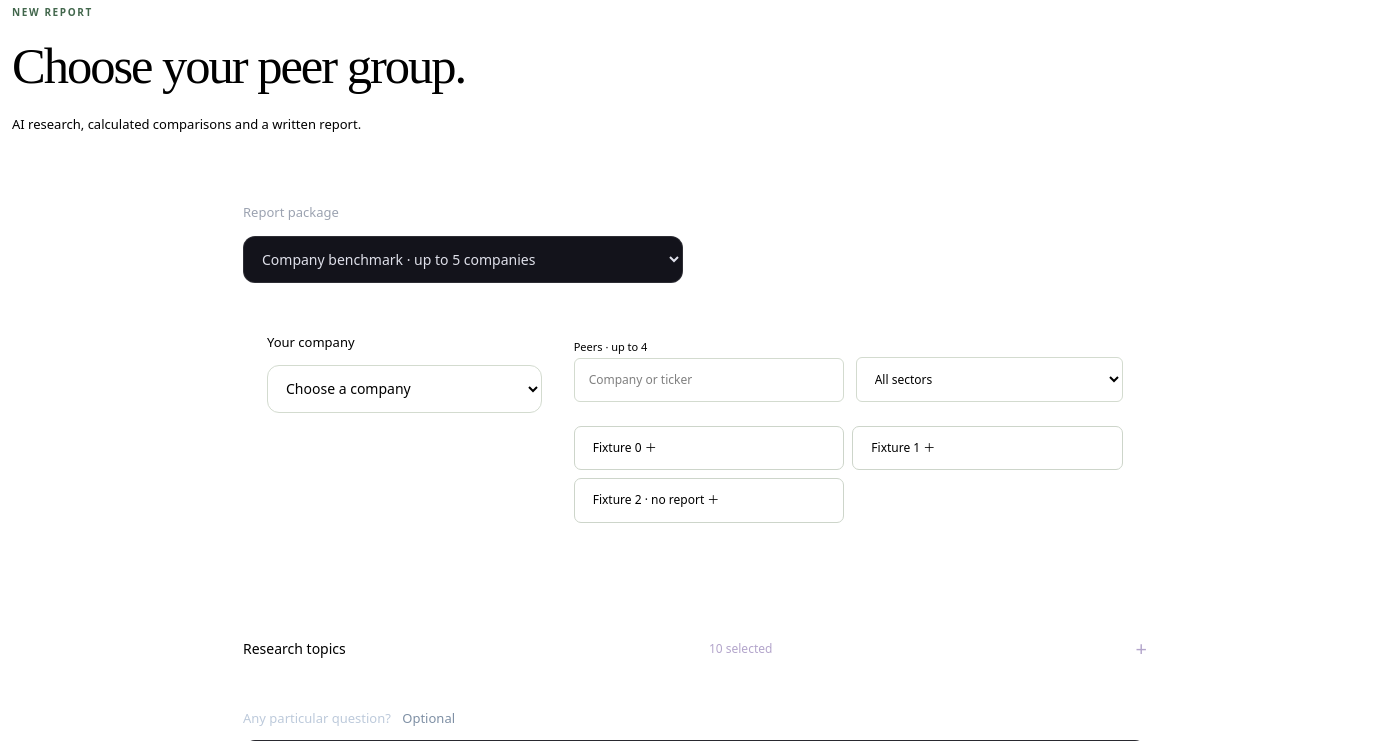
Test: requires explicit generation, persists selection and opens source evidence
Select "Fixture 0" in the dropdown named "Primary company" at (404, 389), box 267,365 -> 542,413
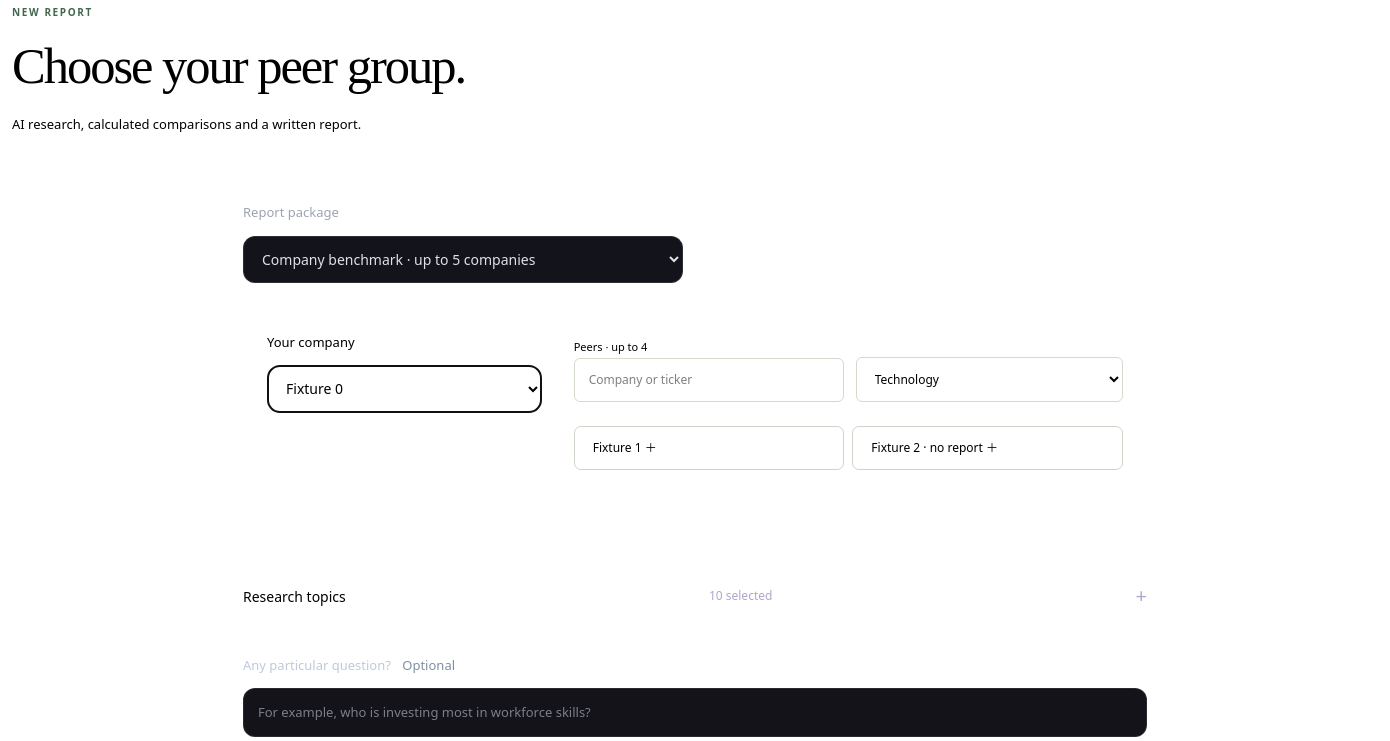
Click the button "Fixture 1 ＋" at (617, 448), box 574,426 -> 844,470
(page scrolled)
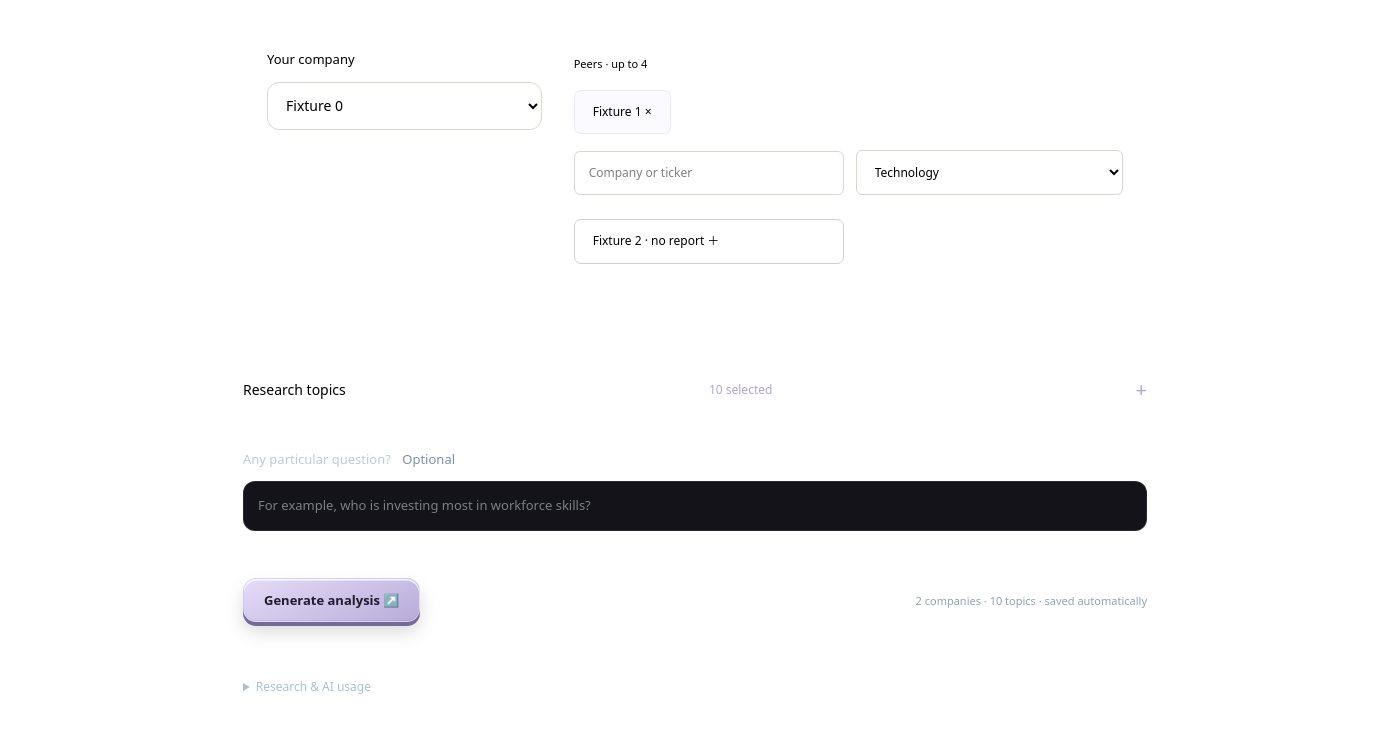
Click the button "Generate analysis ↗" at (332, 602), box 243,578 -> 420,626
(page scrolled)
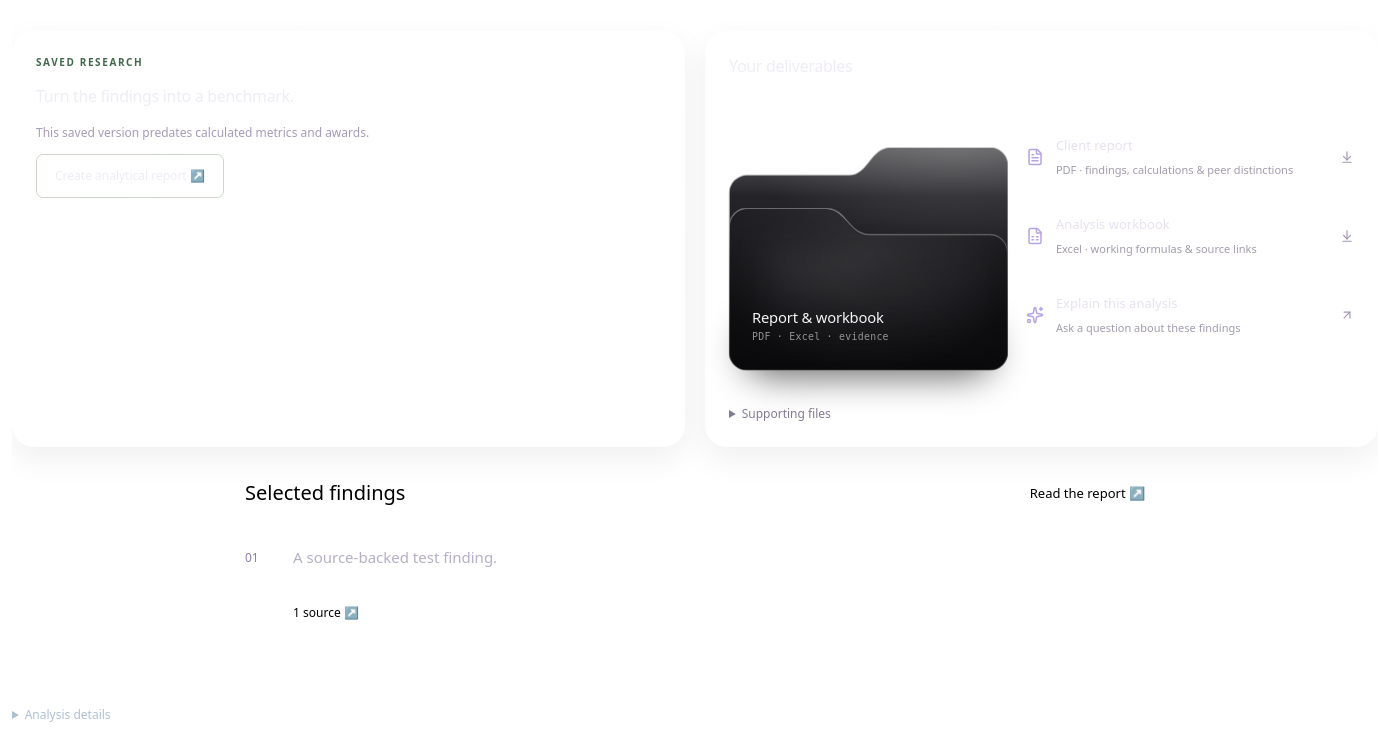
Result: the text "A source-backed test finding." is shown at 293,547 -> 497,567
Click the button with aria-label "View source: Fixture 0, page 2" at (326, 613), box 293,597 -> 359,629
(page scrolled)
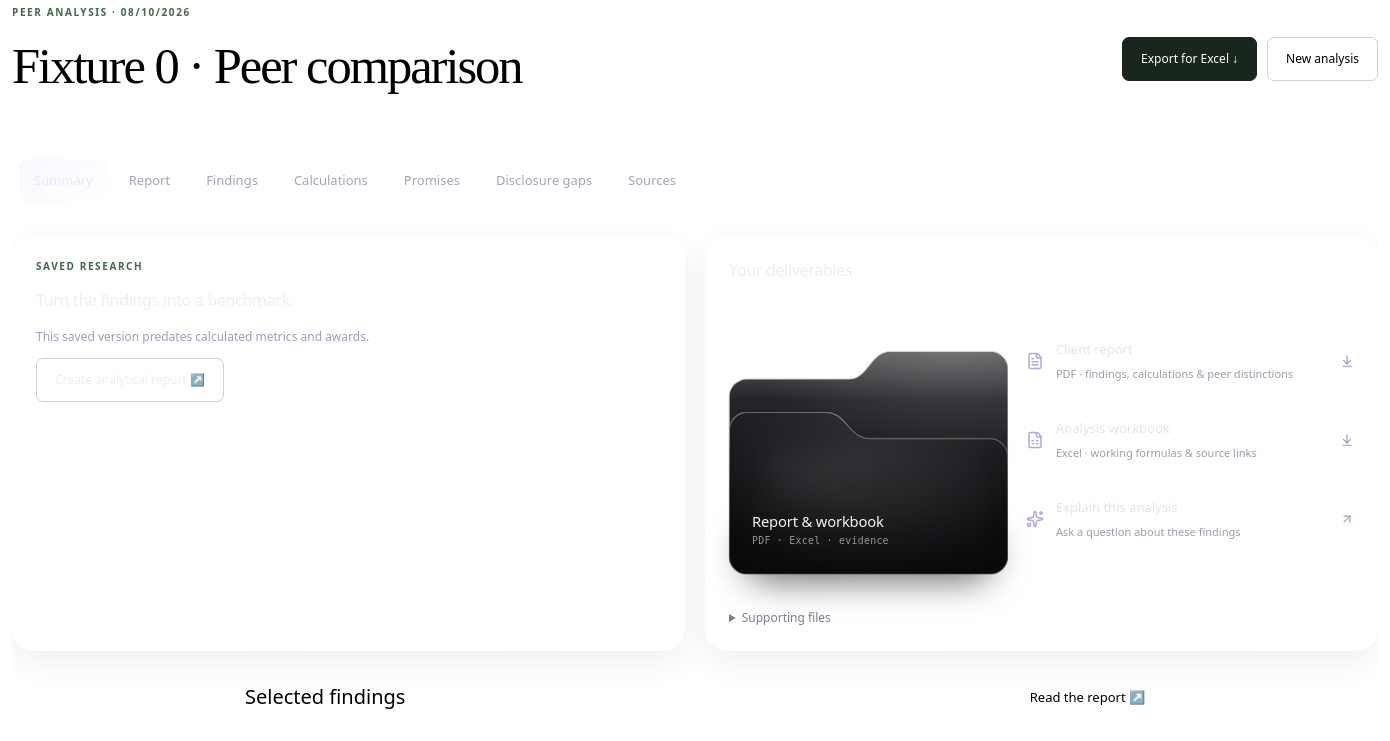
Click the button "Sources" at (652, 181), box 612,159 -> 692,203
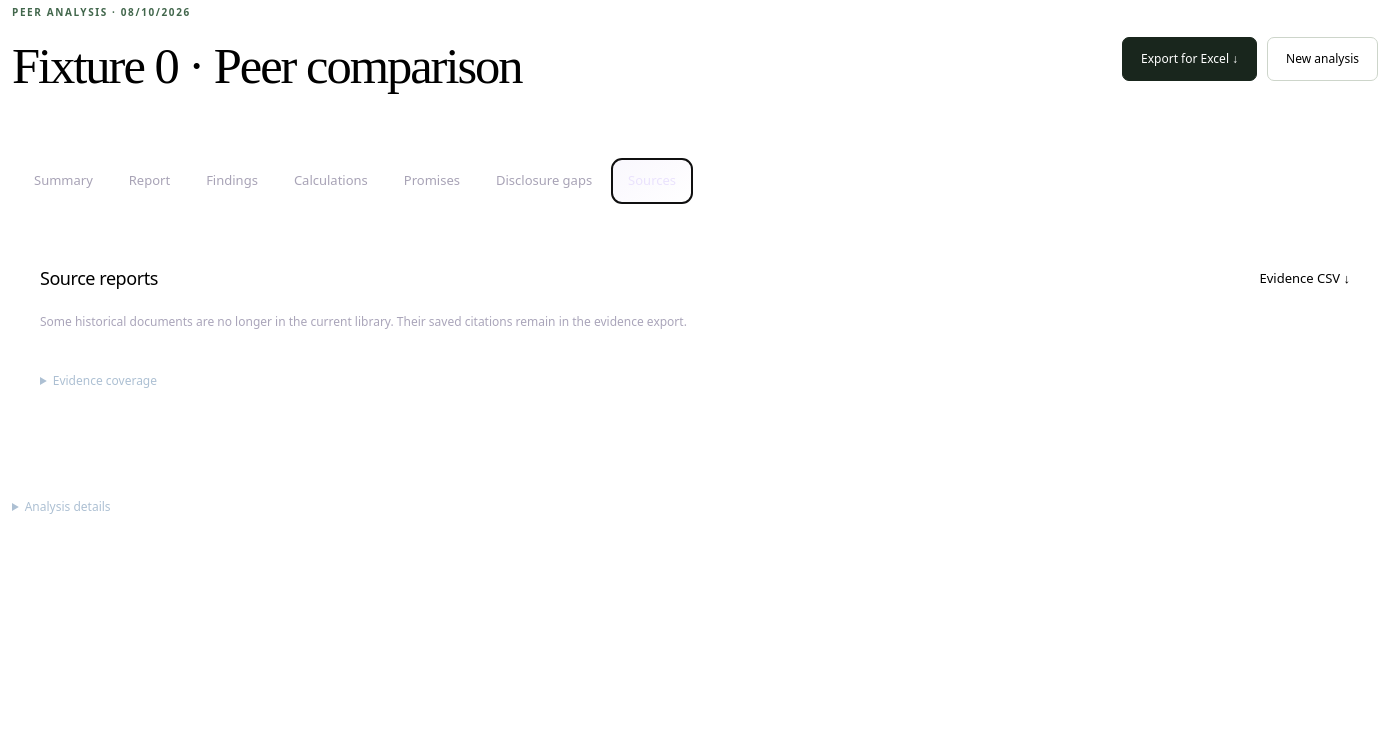
Click the heading "Evidence coverage" at (105, 381), box 53,372 -> 157,389
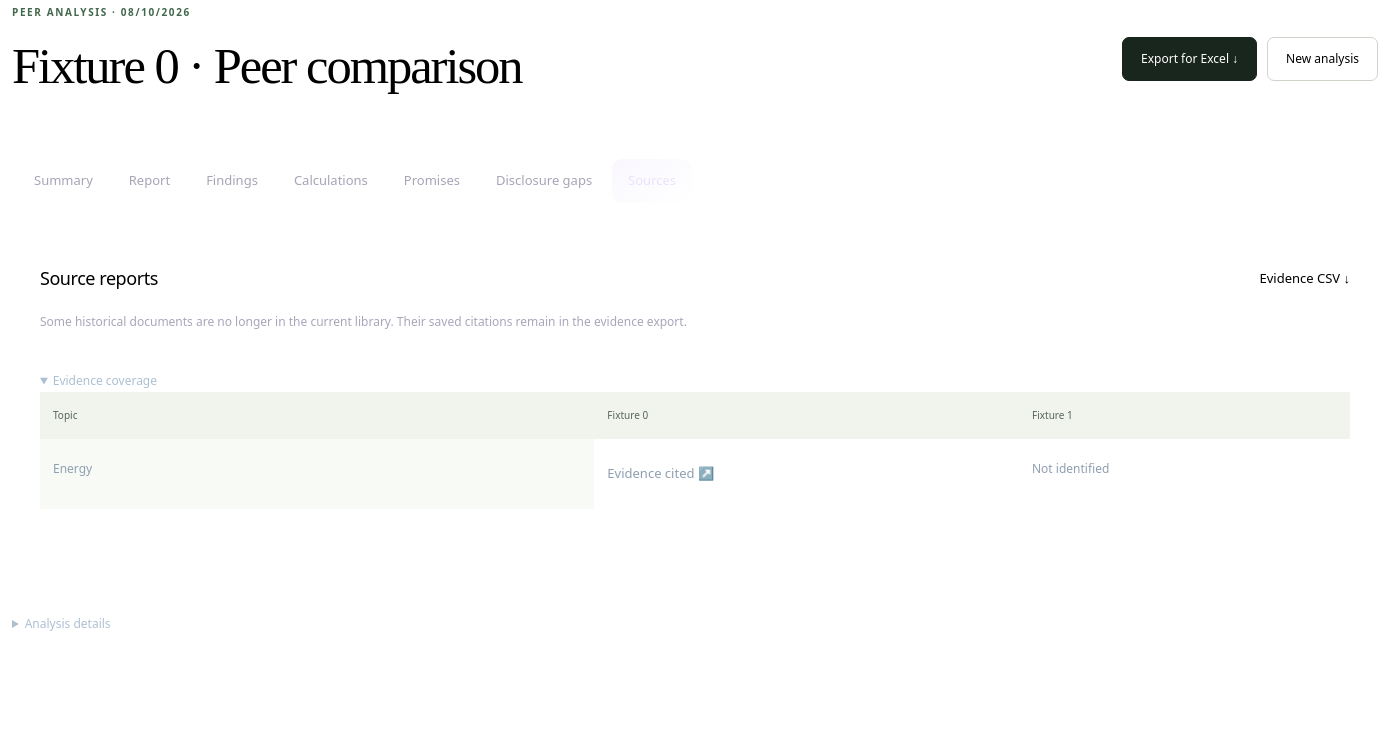
Result: the table shows "Not identified" at 1032,460 -> 1109,477
